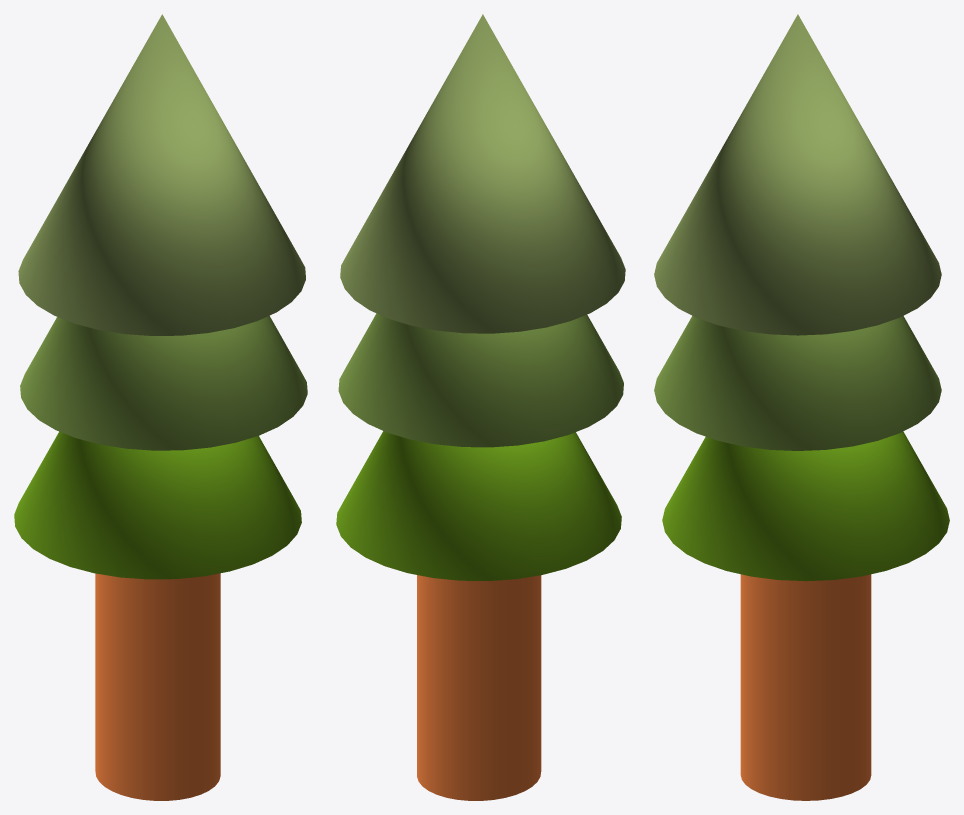
The model's file is tree 1.fbx.
3 views of the same model, side by side, from view 1: azimuth 30°, elevation 25°; view 2: azimuth 150°, elevation 25°; view 3: azimuth 270°, elevation 25° (orthographic).
Visible parts, largest first — view 1: Конус; view 2: Конус; view 3: Конус.
Boxes of the visible parts, left/top/right/bottom form: Конус: left=14, top=14, right=307, bottom=800; Конус: left=336, top=14, right=625, bottom=800; Конус: left=654, top=14, right=949, bottom=800.
Size of the model in its own units: 343 by 994 by 350.
